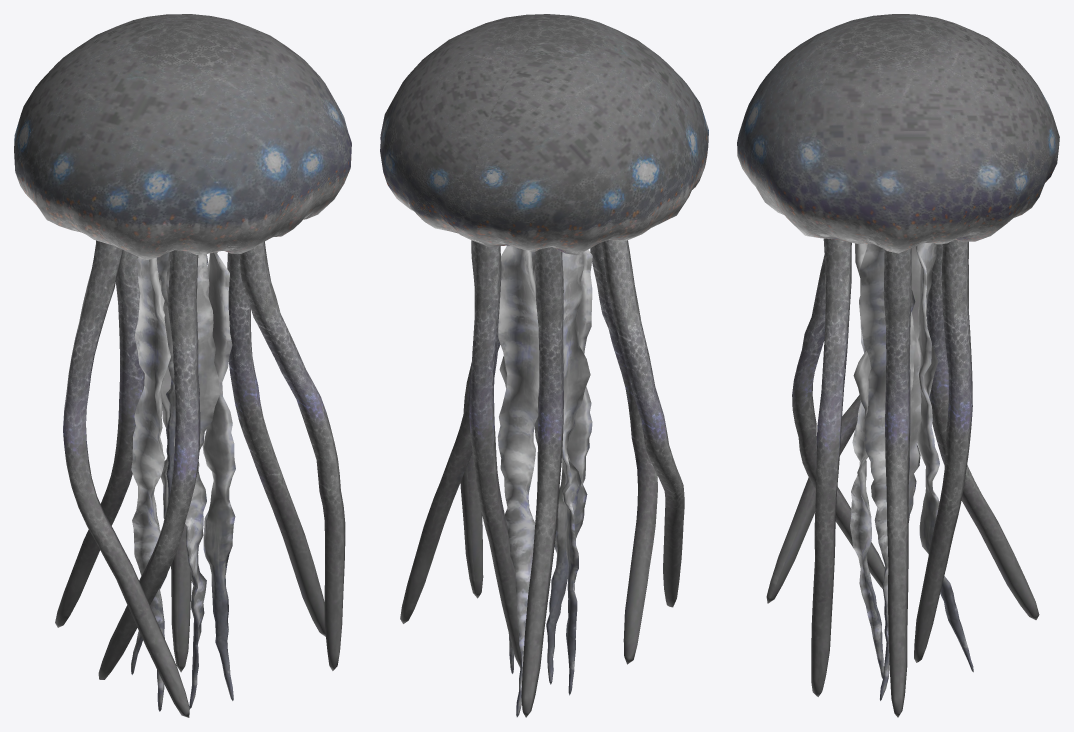
The model's file is jellyfish-size-2.glb.
The picture shows the model from 3 angles, left to right: view 1: azimuth 30°, elevation 25°; view 2: azimuth 150°, elevation 25°; view 3: azimuth 270°, elevation 25°; orthographic projection. The views are drawn at different scales.
Visible parts, largest first — view 1: default; view 2: default; view 3: default.
Part boxes in pixels (x1=…): default: x1=14, y1=14, x2=351, y2=717; default: x1=380, y1=14, x2=708, y2=717; default: x1=737, y1=14, x2=1059, y2=717.
Size of the model in its own units: 1.33 by 2.91 by 1.31.
1 material, 1 textured.
